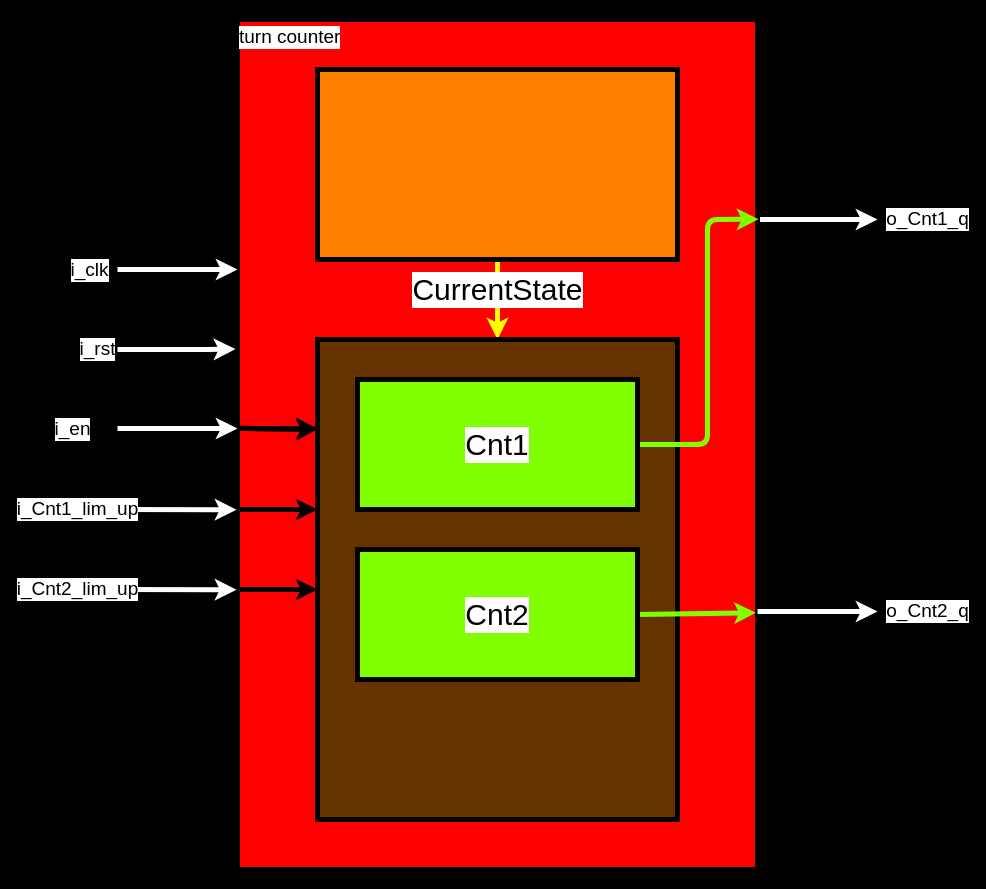
The diagram is 986 pixels wide and 889 high, and some of its shapes have lost their labels. Each missing label, with the box of its shape:
Counter: (314, 336, 680, 822)
FSM: (314, 66, 680, 262)
